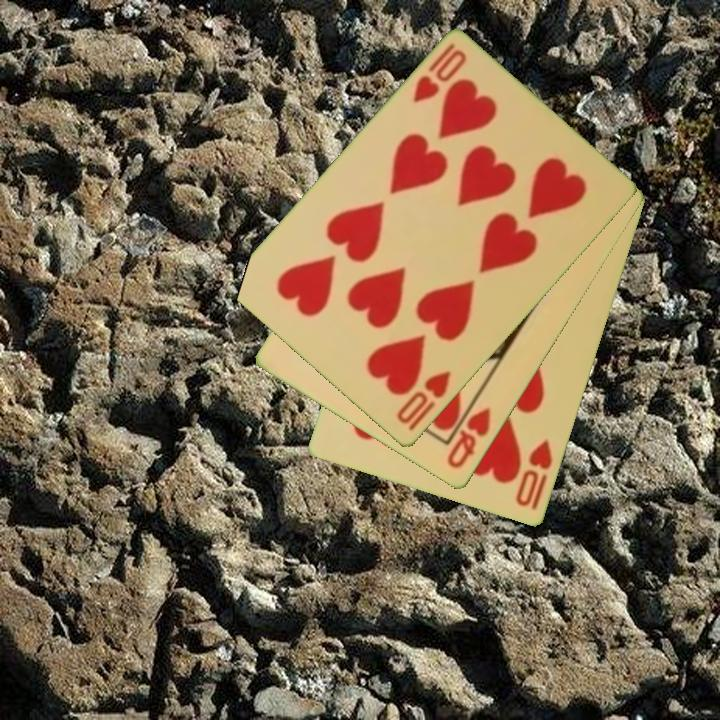10h: (409, 40, 470, 106), (393, 368, 454, 428), (512, 436, 556, 510)
Qh: (443, 405, 494, 472)
